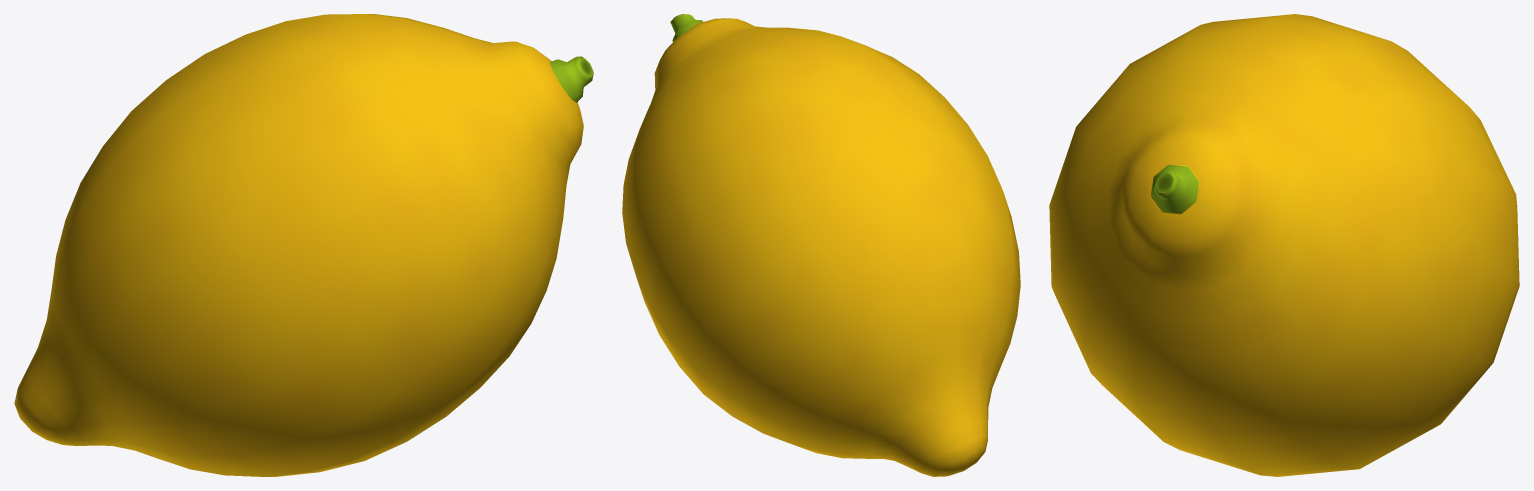
File: lemon_final.glb
The picture shows the model from 3 angles, left to right: view 1: azimuth 30°, elevation 25°; view 2: azimuth 150°, elevation 25°; view 3: azimuth 270°, elevation 25°; orthographic projection. The views are drawn at different scales.
Visible parts, largest first — view 1: lemon; view 2: lemon; view 3: lemon.
Boxes of the visible parts, bbox=[...] form: lemon: bbox=[14, 14, 593, 476]; lemon: bbox=[622, 14, 1020, 476]; lemon: bbox=[1049, 14, 1519, 476].
Size of the model in its own units: 1.01 by 0.8811 by 0.8399.
1 material, 1 textured.
